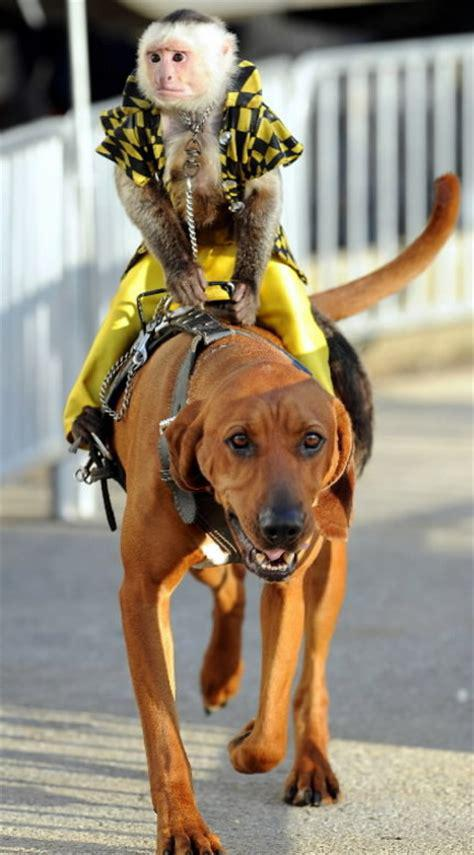dog: (114, 312, 352, 855)
monkey: (63, 11, 458, 437)
